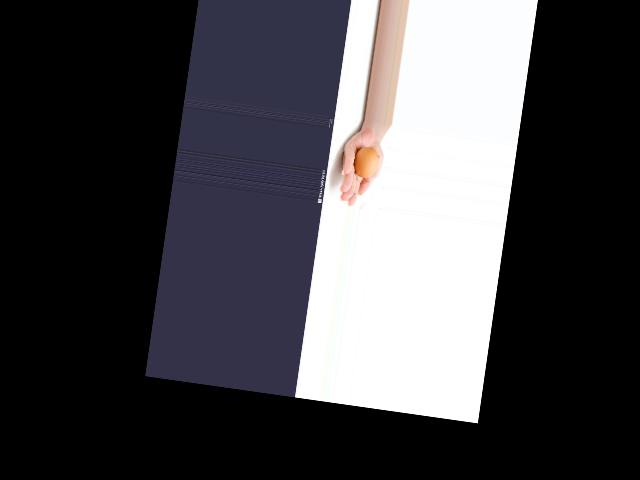egg: (352, 144, 381, 179)
